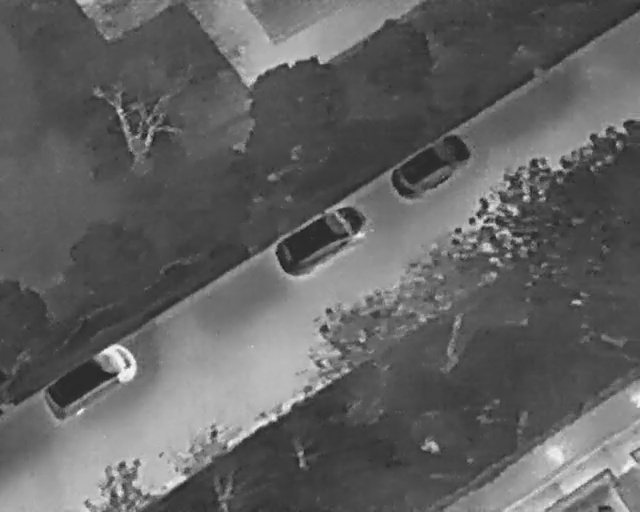Car: (34, 335, 144, 427), (266, 192, 376, 284), (382, 125, 479, 207)
